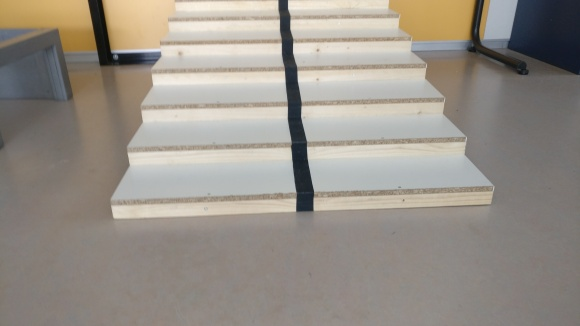stairs: (108, 1, 506, 223)
